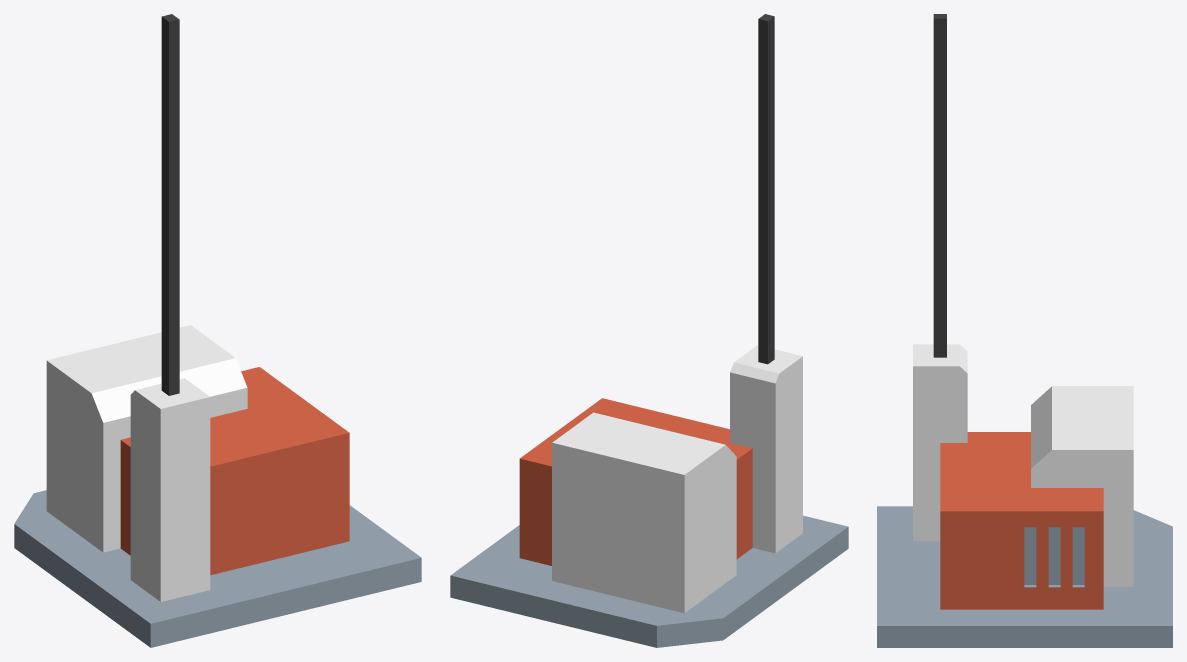
File: station.glb
The picture shows the model from 3 angles, left to right: view 1: azimuth 30°, elevation 25°; view 2: azimuth 150°, elevation 25°; view 3: azimuth 270°, elevation 25°; orthographic projection. The views are drawn at different scales.
Parts seen in each view (by area): view 1: station; view 2: station; view 3: station.
Part boxes in pixels (left/top/right/bottom): station: left=14, top=14, right=421, bottom=647; station: left=450, top=14, right=848, bottom=647; station: left=877, top=14, right=1172, bottom=647.
Size of the model in its own units: 4.7 by 9.8 by 4.9.
